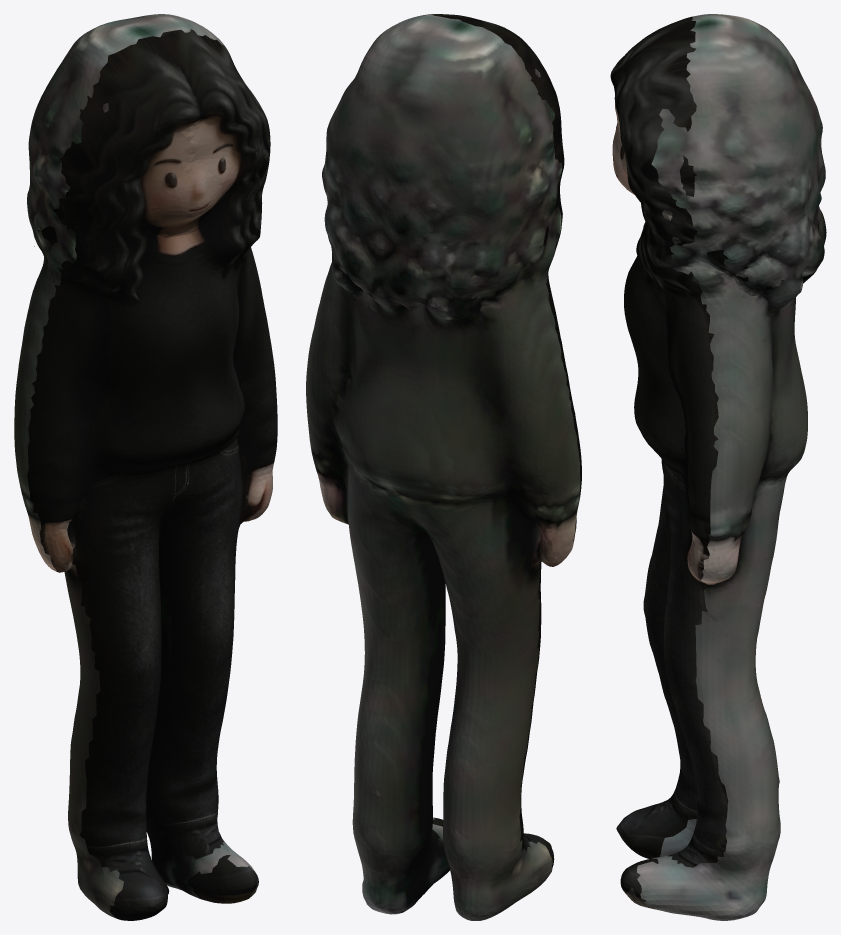
File: sunhye.glb
The picture shows the model from 3 angles, left to right: view 1: azimuth 30°, elevation 25°; view 2: azimuth 150°, elevation 25°; view 3: azimuth 270°, elevation 25°; orthographic projection. The views are drawn at different scales.
Parts seen in each view (by area): view 1: body_t, legR_t, legL_t, body_c, legL_c, legR_c; view 2: body_c, legL_c, legR_c, body_t, legL_t, legR_t; view 3: body_c, body_t, legR_c, legR_t, legL_t, legL_c.
Boxes of the visible parts, <box> form: body_t: <box>27,29,277,572</box>; legR_t: <box>148,495,258,903</box>; legL_t: <box>75,525,169,920</box>; body_c: <box>14,14,251,571</box>; legL_c: <box>64,566,123,918</box>; legR_c: <box>146,522,254,898</box>; body_c: <box>306,14,580,570</box>; legL_c: <box>425,531,552,920</box>; legR_c: <box>346,504,449,914</box>; body_t: <box>423,14,581,541</box>; legL_t: <box>519,560,554,871</box>; legR_t: <box>427,573,445,852</box>; body_c: <box>651,14,826,584</box>; body_t: <box>610,16,766,584</box>; legR_c: <box>637,525,780,920</box>; legR_t: <box>620,526,728,909</box>; legL_t: <box>616,486,697,858</box>; legL_c: <box>659,819,696,856</box>.
Bounding box in the file's own units: 0.2724 × 0.8958 × 0.2028.
1 material, 1 textured.
